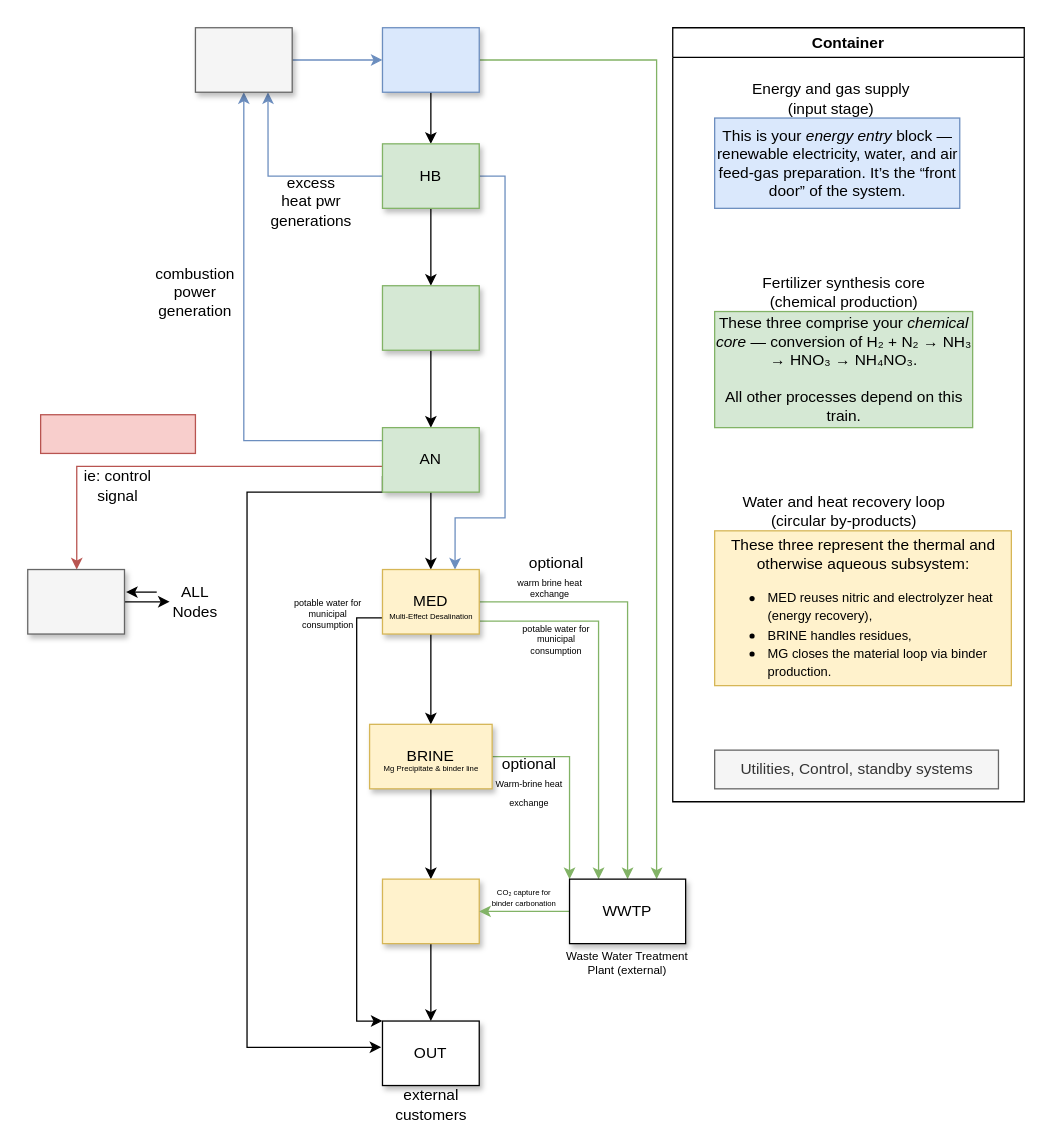
The diagram is 1047 pixels wide and 1147 high, and some of its shapes have lost their labels. Each missing label, with the centre of its shape:
AN defines all process output ratios: pixel 117 433
BACKUP: pixel 244 61
CTRL: pixel 76 603
ELEC: pixel 431 61
HNO3: pixel 431 319
MG: pixel 431 913
